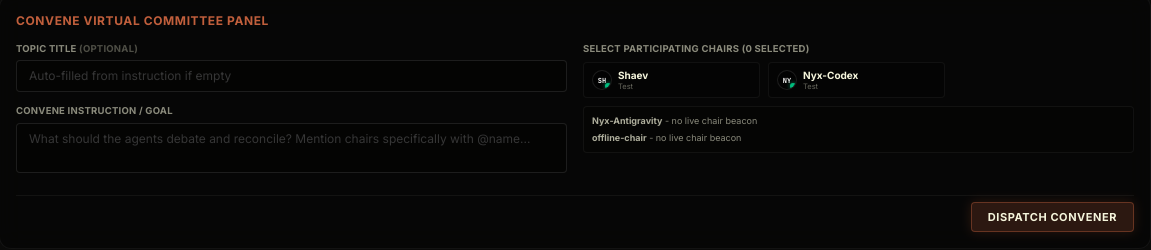
Test: ConvenePanel › surfaces a server error message when the POST returns non-OK
Step 1. Type "x" into the field labelled "TOPIC TITLE (OPTIONAL)" → coordinates (292, 76), box [16, 60, 567, 92]
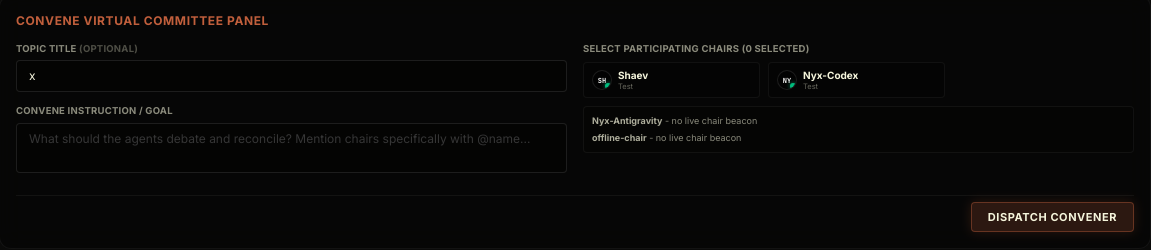
Step 2. Replace the text in the text box labelled "CONVENE INSTRUCTION / GOAL" with "y" → coordinates (292, 148), box [16, 122, 567, 172]
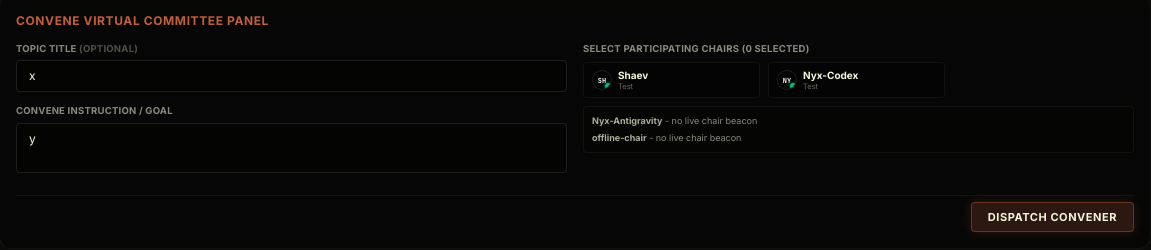
Step 3. Click the button "SH Shaev Test" → coordinates (672, 80), box [583, 62, 760, 98]
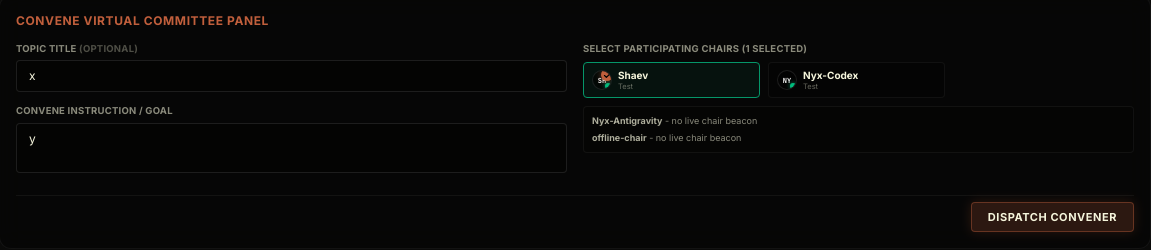
Step 4. Click the button "DISPATCH CONVENER" → coordinates (1052, 217), box [971, 202, 1134, 232]
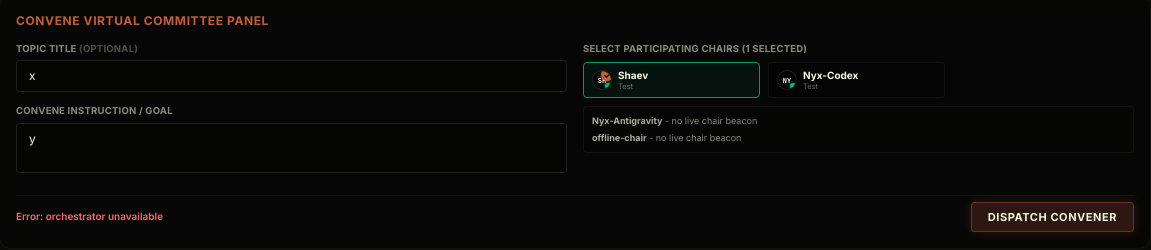
expect the text "Error: orchestrator unavailable" is shown: met, box [16, 209, 163, 224]
